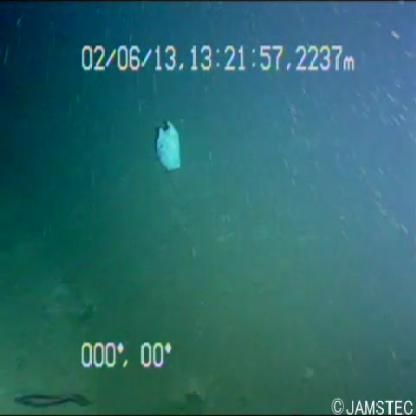Rác: (148, 115, 196, 188)
